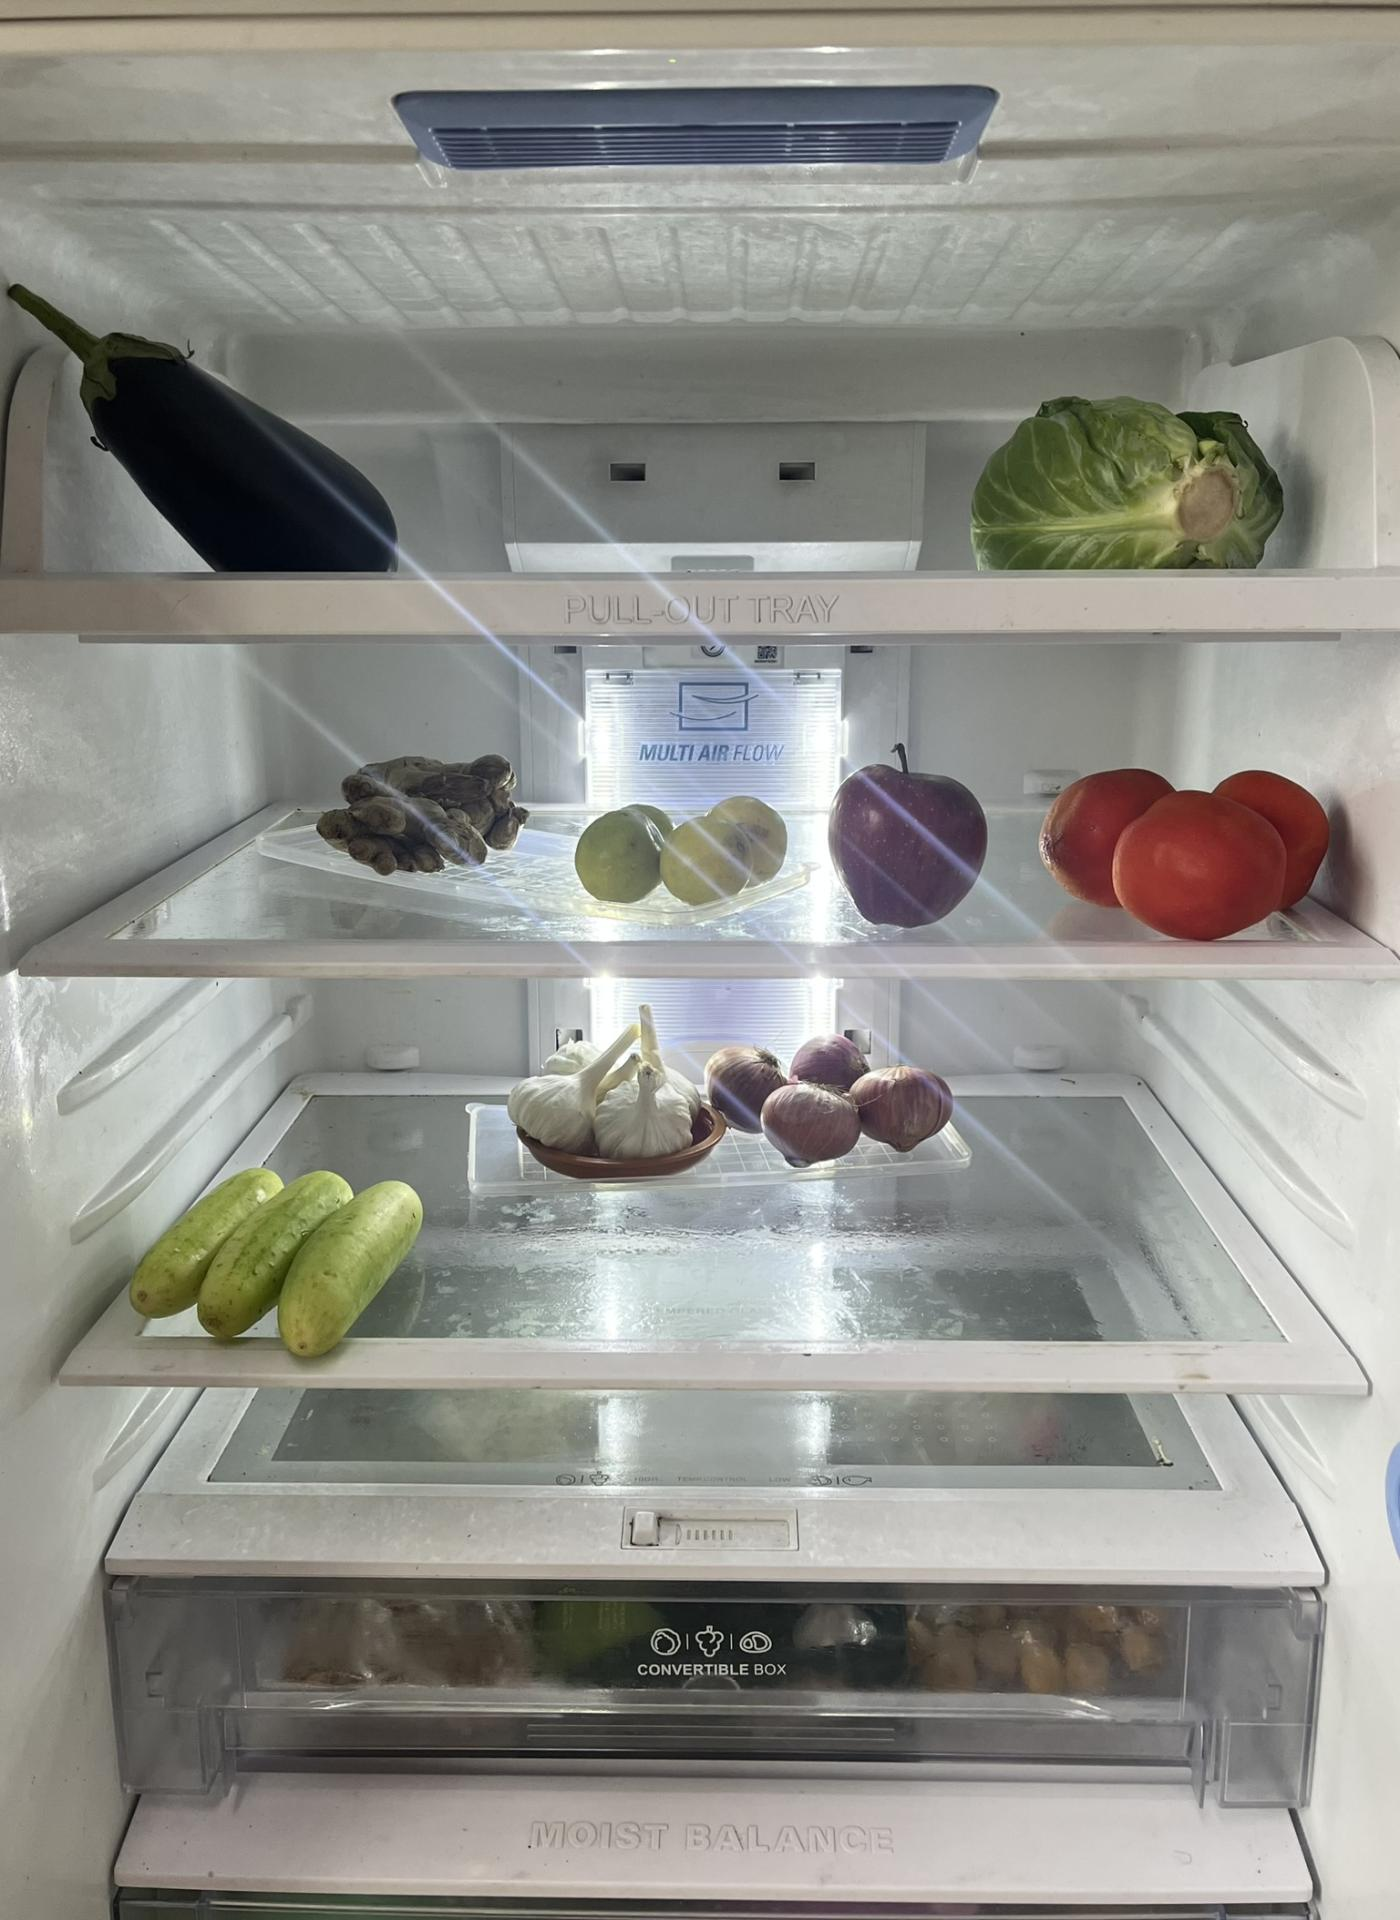apple: (830, 750, 990, 930)
brinjal: (0, 271, 409, 575)
cabbage: (969, 391, 1290, 569)
cucumber: (130, 1160, 431, 1358)
garlic: (517, 1003, 714, 1158)
ginger: (319, 754, 531, 882)
lemon: (577, 792, 796, 903)
onion: (710, 1030, 954, 1158)
tomato: (1045, 760, 1339, 939)
